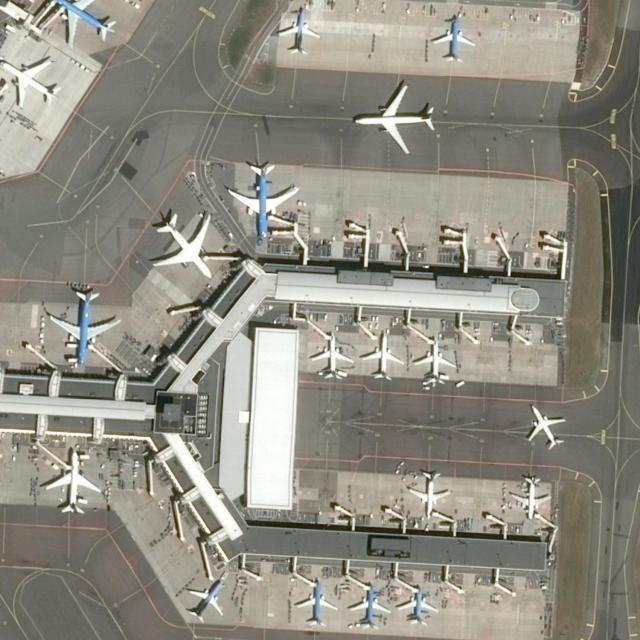Aircraft: (352, 82, 438, 153), (44, 286, 121, 365), (225, 161, 302, 239), (147, 212, 215, 282), (42, 447, 101, 515), (47, 0, 117, 45), (0, 58, 63, 107), (276, 4, 324, 57), (430, 15, 476, 62), (183, 576, 228, 624), (525, 403, 568, 450), (415, 338, 457, 386), (407, 470, 451, 515), (346, 586, 390, 631), (364, 332, 403, 382), (295, 582, 339, 625), (310, 331, 350, 378), (509, 476, 552, 518), (397, 587, 439, 627)
